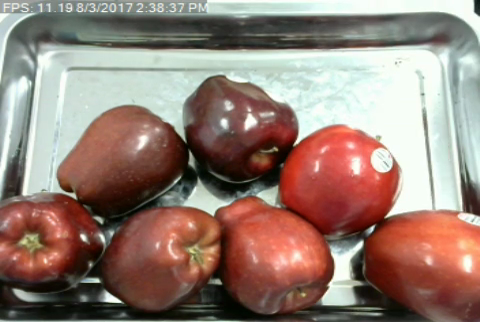Apple: (210, 193, 337, 322), (53, 101, 190, 218), (276, 122, 404, 239), (93, 203, 219, 318), (356, 207, 480, 320), (177, 75, 306, 182), (0, 189, 108, 295)
